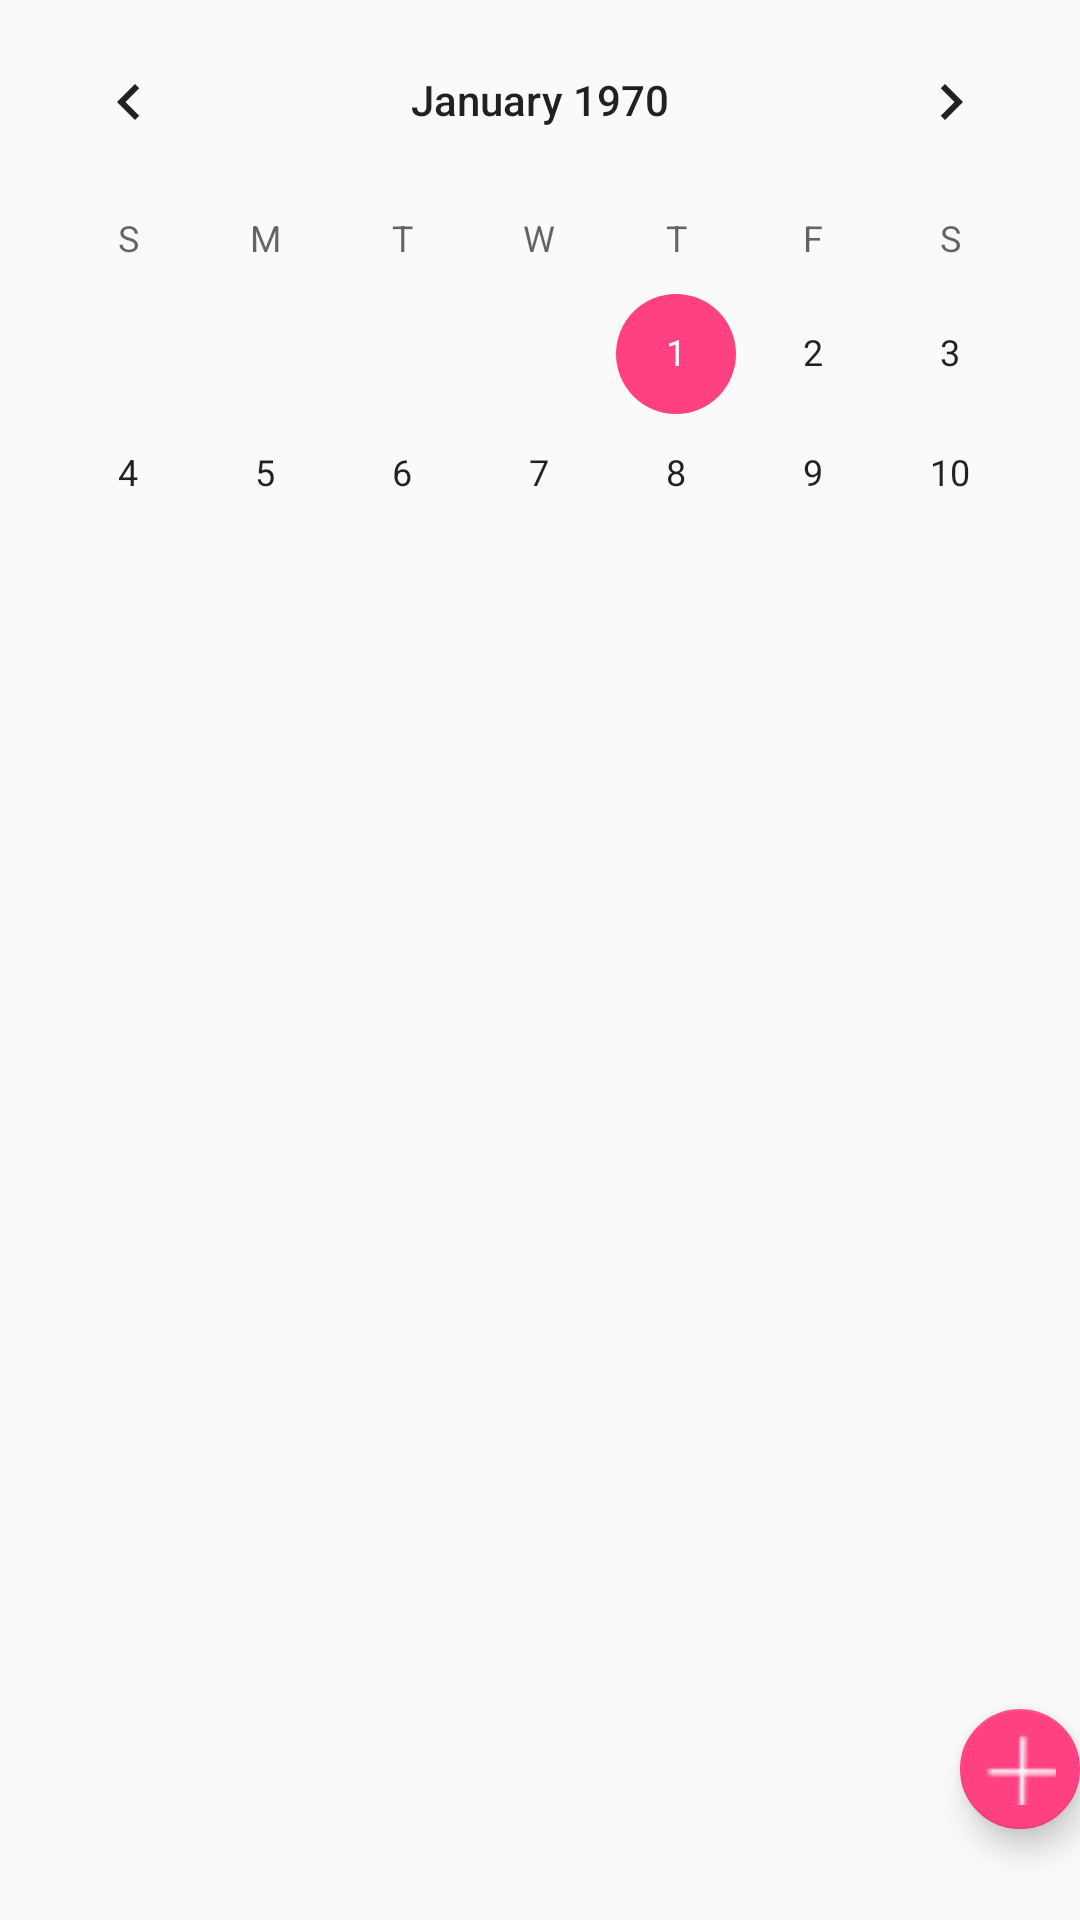

Locate icon controls on the screen. Image size 1080x1920, boxes as (x1, y1, x2, y2).
add: (960, 1709, 1080, 1829)
